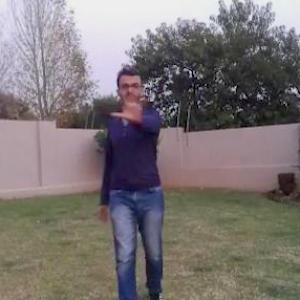follow_hand: (109, 84, 148, 123)
